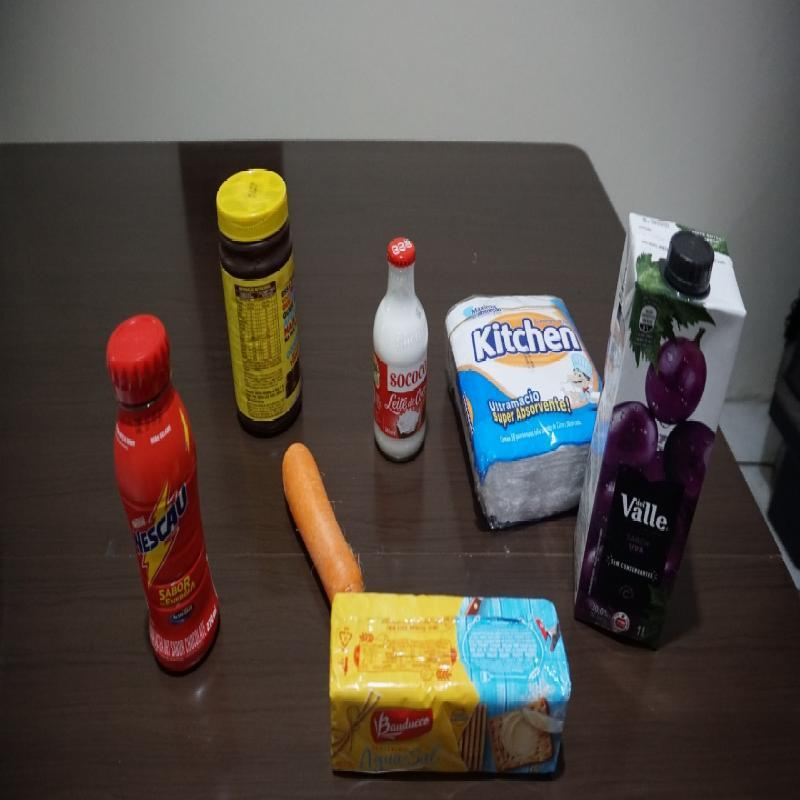Carrot: (279, 439, 366, 594)
Chocolate Milk: (104, 307, 223, 682)
Chocolate Powder: (215, 167, 308, 438)
Coconut Milk: (370, 236, 431, 465)
Cracker: (329, 590, 573, 781)
Napkin: (441, 292, 607, 526)
